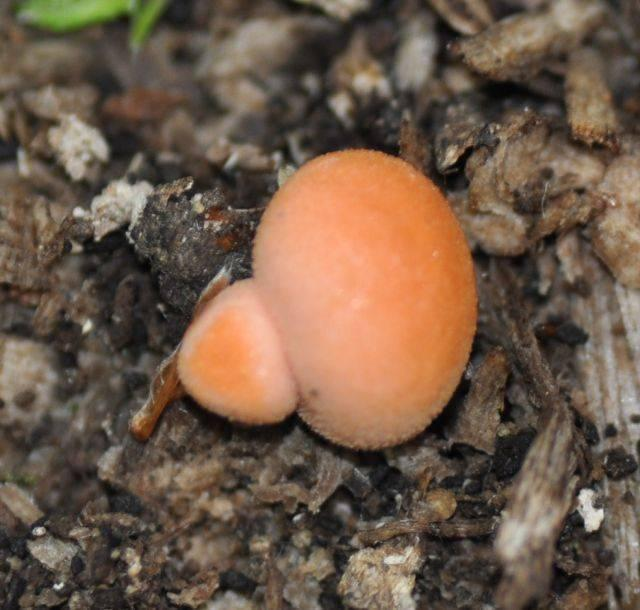poisonous_mushroom: (130, 146, 480, 452)
